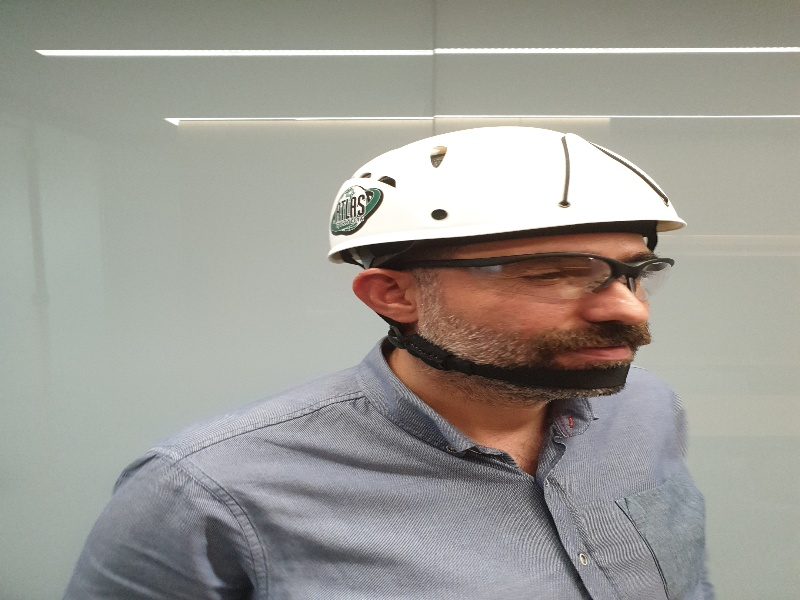Baret: (330, 123, 697, 239)
Gozluk: (409, 248, 682, 304)
